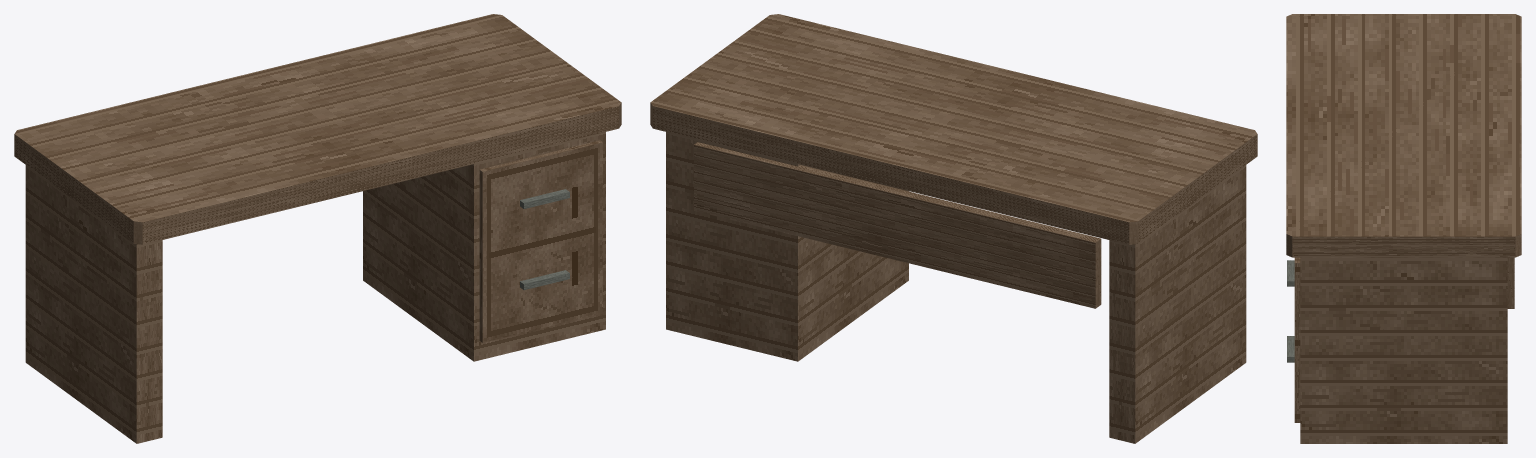
Rendered from apartment_desk.glb.
3 views of the same model, side by side, from view 1: azimuth 30°, elevation 25°; view 2: azimuth 150°, elevation 25°; view 3: azimuth 270°, elevation 25° (orthographic). The views are drawn at different scales.
Parts seen in each view (by area): view 1: Body; view 2: Body; view 3: Body.
Part boxes in pixels (x1,y1,x2,y2): Body: (14, 14, 621, 443); Body: (650, 14, 1257, 443); Body: (1286, 14, 1521, 443).
Bounding box in the file's own units: 1.7 × 0.7575 × 0.76.
Materials: 1 (1 with a texture image).
